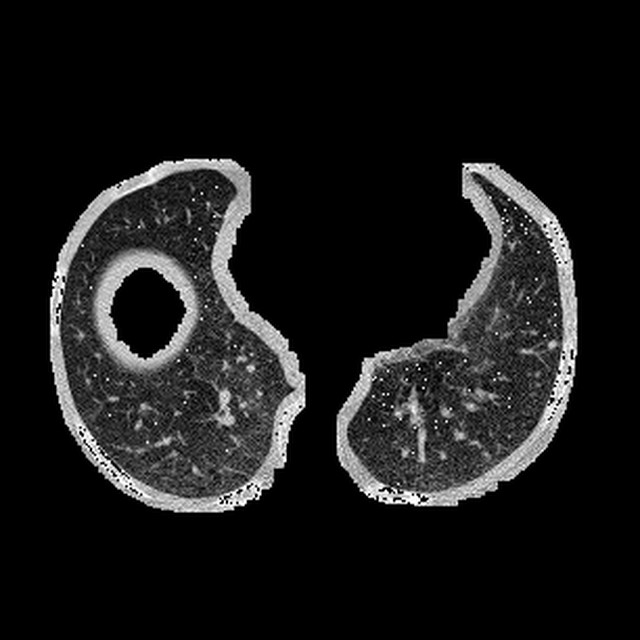PN: (548, 341, 556, 349)
